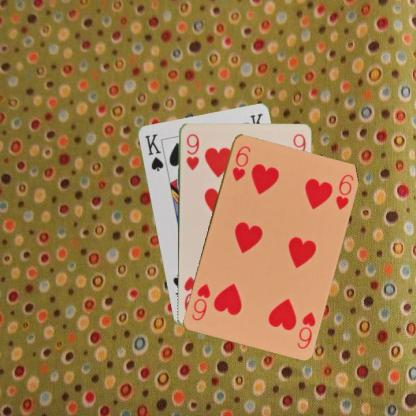6h: (294, 309, 317, 350), (229, 143, 252, 182)
9h: (183, 131, 200, 172)
Ks: (142, 131, 165, 172)
